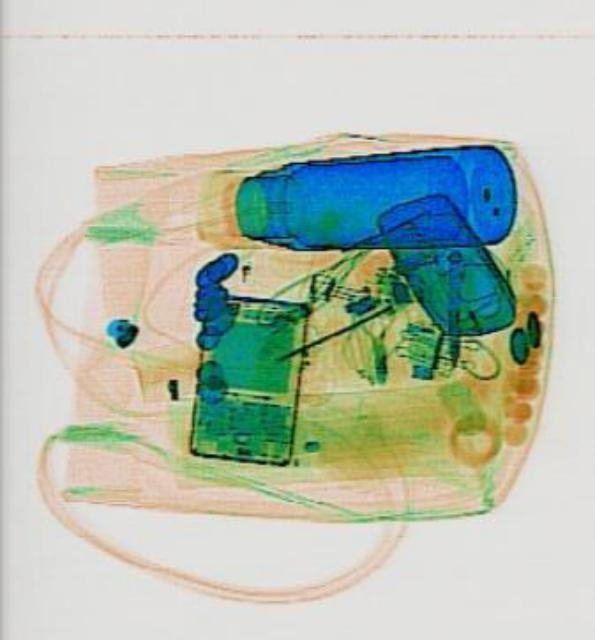Knife: (438, 262, 459, 364)
